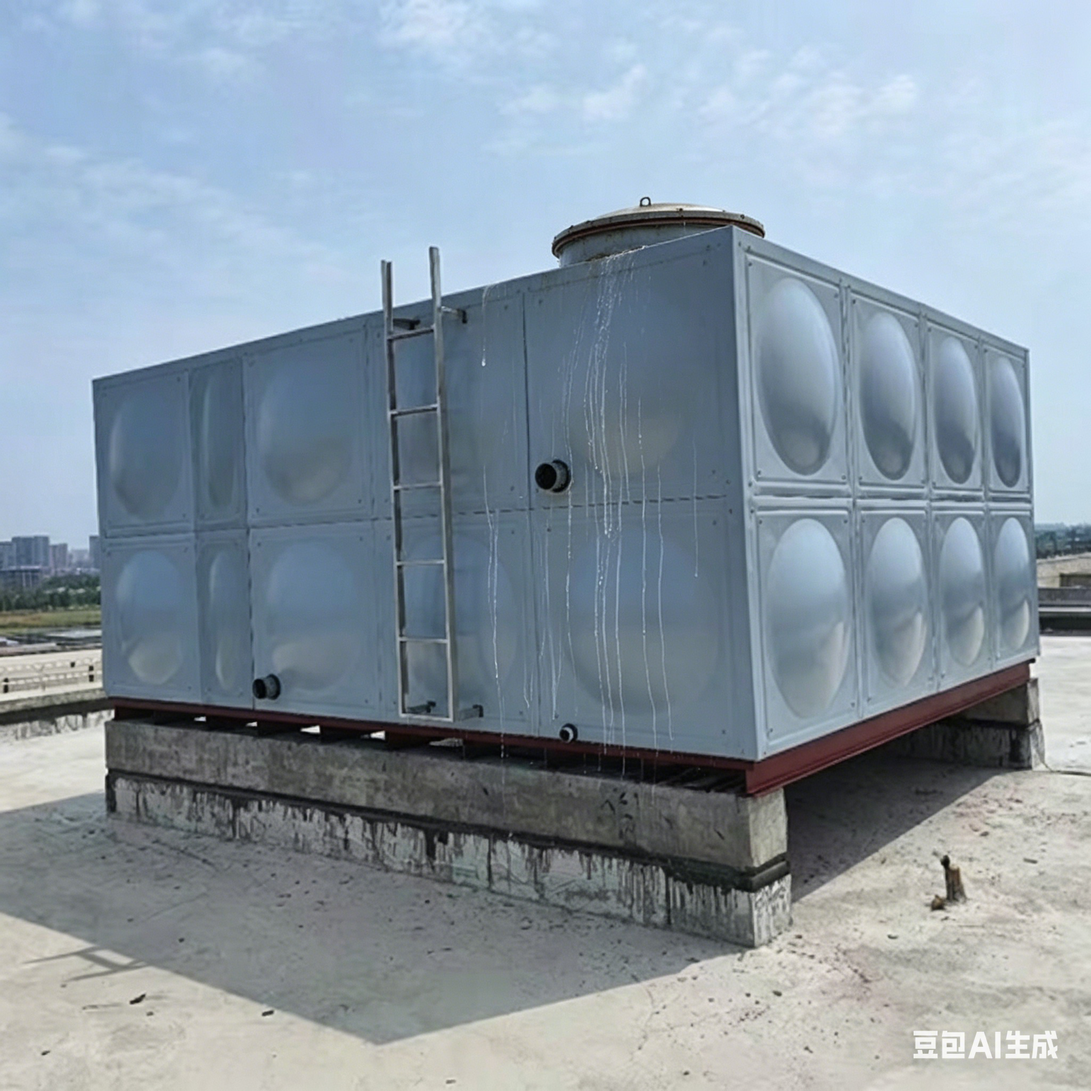Leakage: (572, 249, 684, 760), (453, 401, 564, 770)
